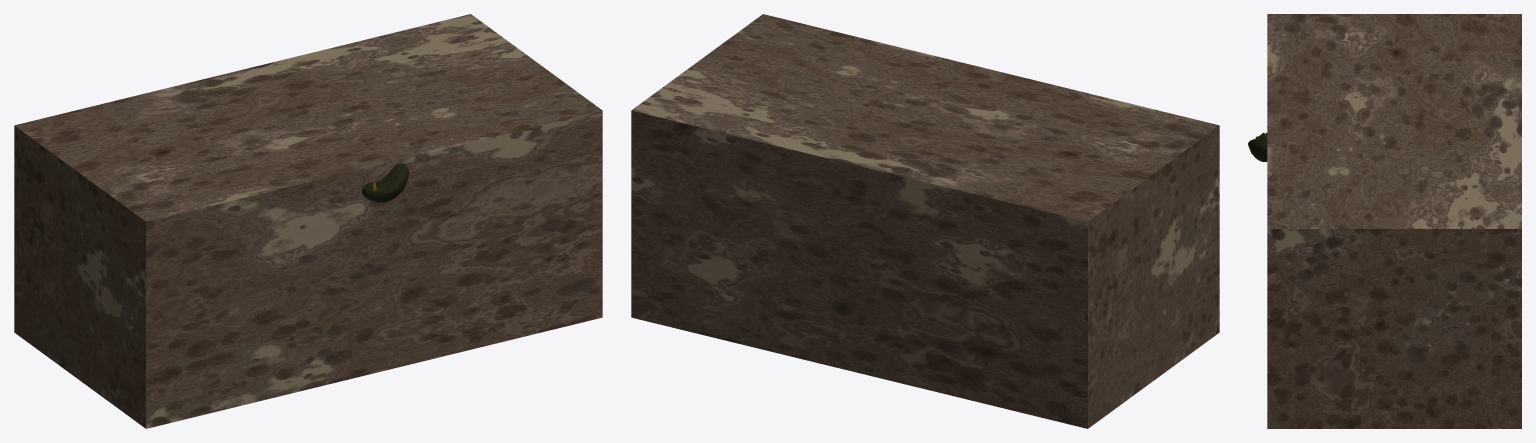
3 views of the same model, side by side, from view 1: azimuth 30°, elevation 25°; view 2: azimuth 150°, elevation 25°; view 3: azimuth 270°, elevation 25° (orthographic). The views are drawn at different scales.
Visible parts, largest first — view 1: Cube.001, Seed.001; view 2: Cube.001; view 3: Cube.001, Seed.001.
Part boxes in pixels (box(x1,y1,x2,y2)): Cube.001: box(14, 14, 602, 428); Seed.001: box(362, 163, 409, 202); Cube.001: box(631, 14, 1219, 428); Cube.001: box(1267, 14, 1521, 428); Seed.001: box(1248, 132, 1267, 161).
Size of what is drawn, in the model's own units: 0.3502 by 0.1518 by 0.1884.
Materials: 5 (2 with a texture image).
